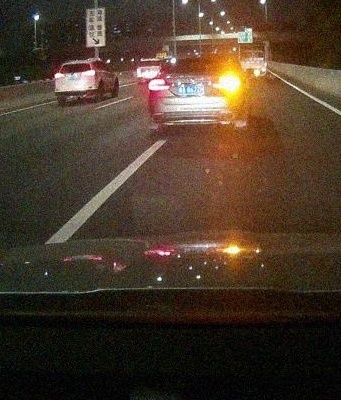L_light: (148, 78, 171, 91), (55, 73, 65, 79)
R_light: (216, 76, 239, 89), (83, 70, 96, 77)
T_light: (190, 57, 208, 61), (71, 63, 80, 65)
night-no: (54, 60, 98, 103)
night-right: (147, 53, 243, 132)
